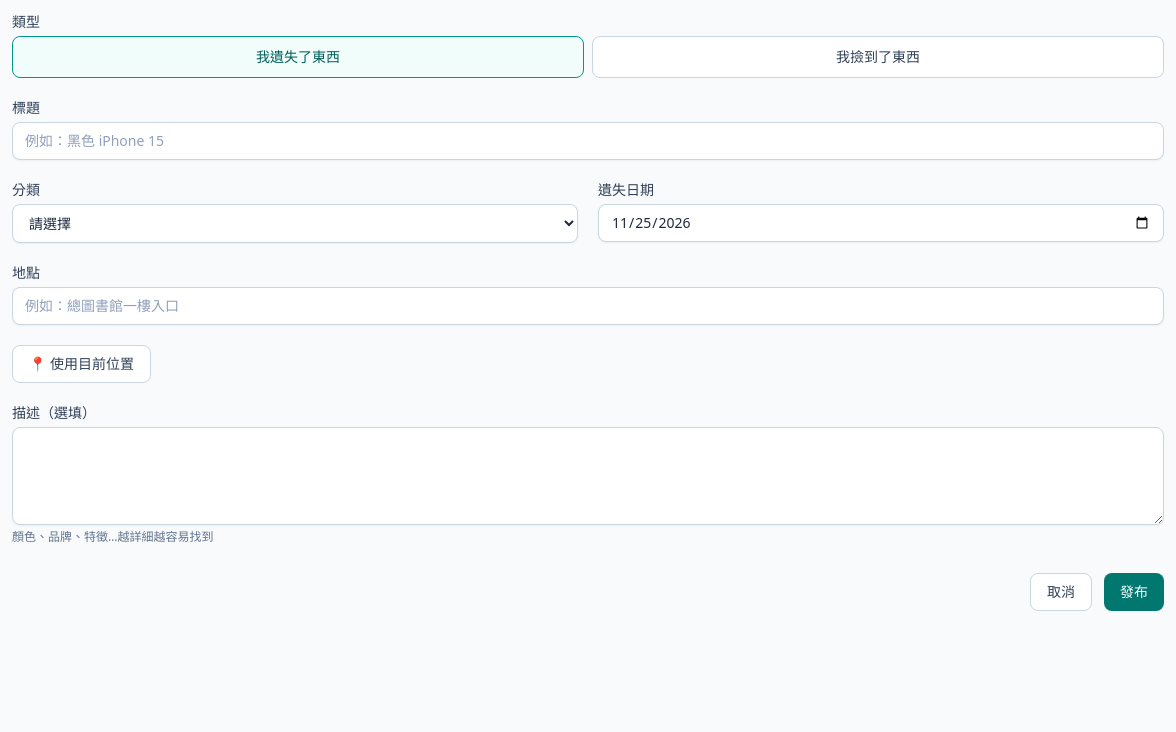
Scenario: ItemForm › shows what is missing instead of submitting an empty form
The image size is (1176, 732).
Click the button "發布".
click(1134, 592)  # box [1104,573,1164,611]
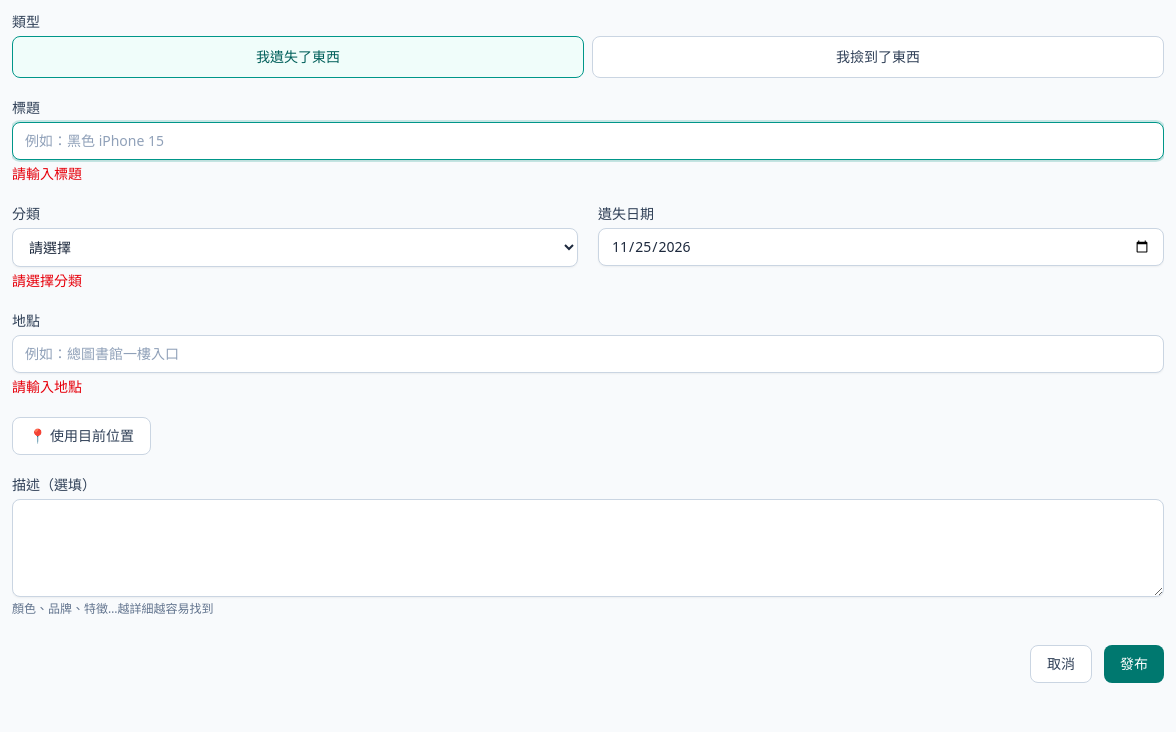
Check: the text "請輸入標題" is shown, box [12,164,82,183]
Check: the text "請選擇分類" is shown, box [12,271,82,290]
Check: the text "請輸入地點" is shown, box [12,377,82,396]
